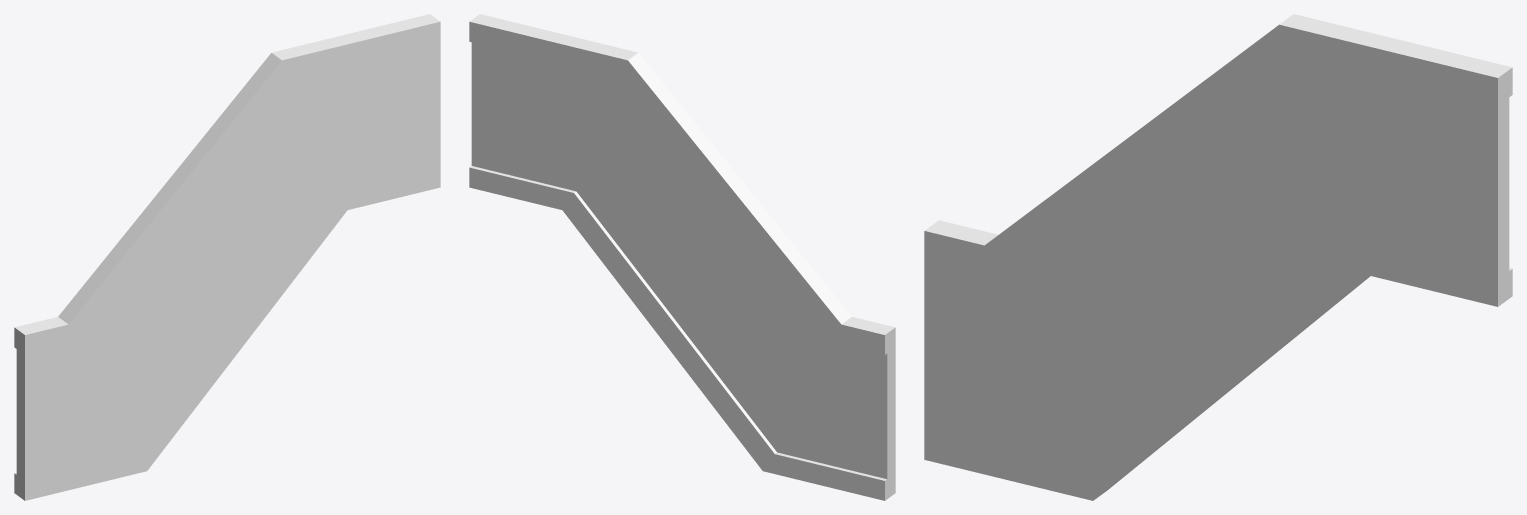
The model's file is venice_road_1.fbx.
3 views of the same model, side by side, from view 1: azimuth 30°, elevation 25°; view 2: azimuth 150°, elevation 25°; view 3: azimuth 330°, elevation 25° (orthographic). The views are drawn at different scales.
Visible parts, largest first — view 1: Cube.287; view 2: Cube.287; view 3: Cube.287.
Boxes of the visible parts, left/top/right/bottom form: Cube.287: left=14, top=14, right=440, bottom=500; Cube.287: left=469, top=14, right=895, bottom=500; Cube.287: left=924, top=14, right=1512, bottom=500.
Bounding box in the file's own units: 1443 × 1254 × 63.5.
